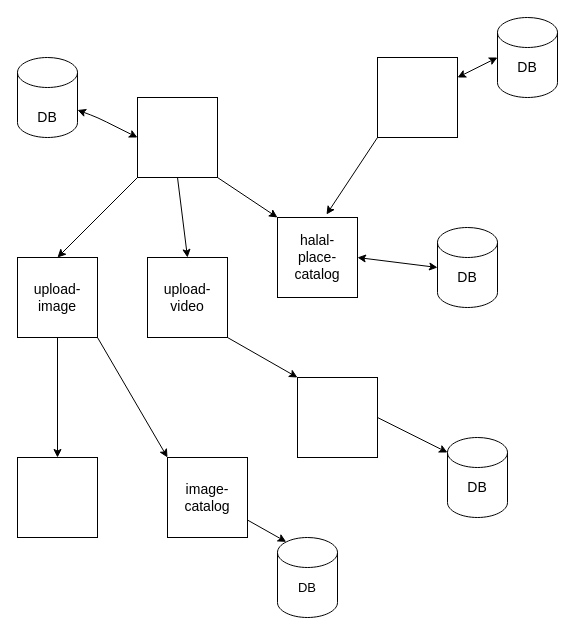
The diagram is 575 pixels wide and 635 high, and some of its shapes have lost their labels. The shapes that lost their labels are listed below. From the top down, each one's centre as x and y in pixels, then its label:
At pixel 417 97: "search-halal-places".
At pixel 177 137: "add-halal-place".
At pixel 337 417: "videos-catalog".
At pixel 57 497: "image-processing".
